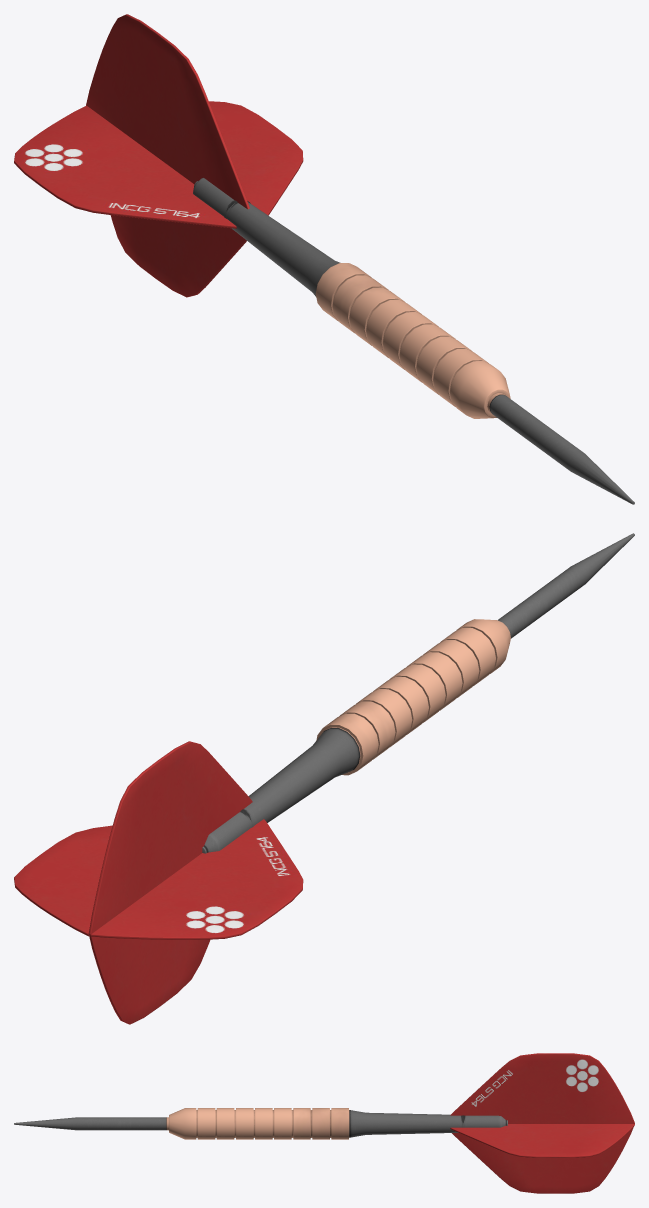
Rendered from Dardo.fbx.
3 renders of one model, top to bottom at view 1: azimuth 30°, elevation 25°; view 2: azimuth 150°, elevation 25°; view 3: azimuth 270°, elevation 25°, orthographic. The views are drawn at different scales.
Visible parts, largest first — view 1: wing.001, arrow, wing; view 2: wing.001, wing, arrow; view 3: wing.001, arrow, wing.
Boxes of the visible parts, left/top/right/bottom form: wing.001: left=86, top=14, right=249, bottom=297; arrow: left=193, top=178, right=634, bottom=504; wing: left=14, top=101, right=303, bottom=228; wing.001: left=88, top=741, right=252, bottom=1024; wing: left=14, top=819, right=303, bottom=939; arrow: left=202, top=533, right=634, bottom=853; wing.001: left=450, top=1053, right=634, bottom=1193; arrow: left=14, top=1108, right=507, bottom=1139; wing: left=450, top=1124, right=634, bottom=1157.
Size of the model in its own units: 90.07 by 90.07 by 361.
